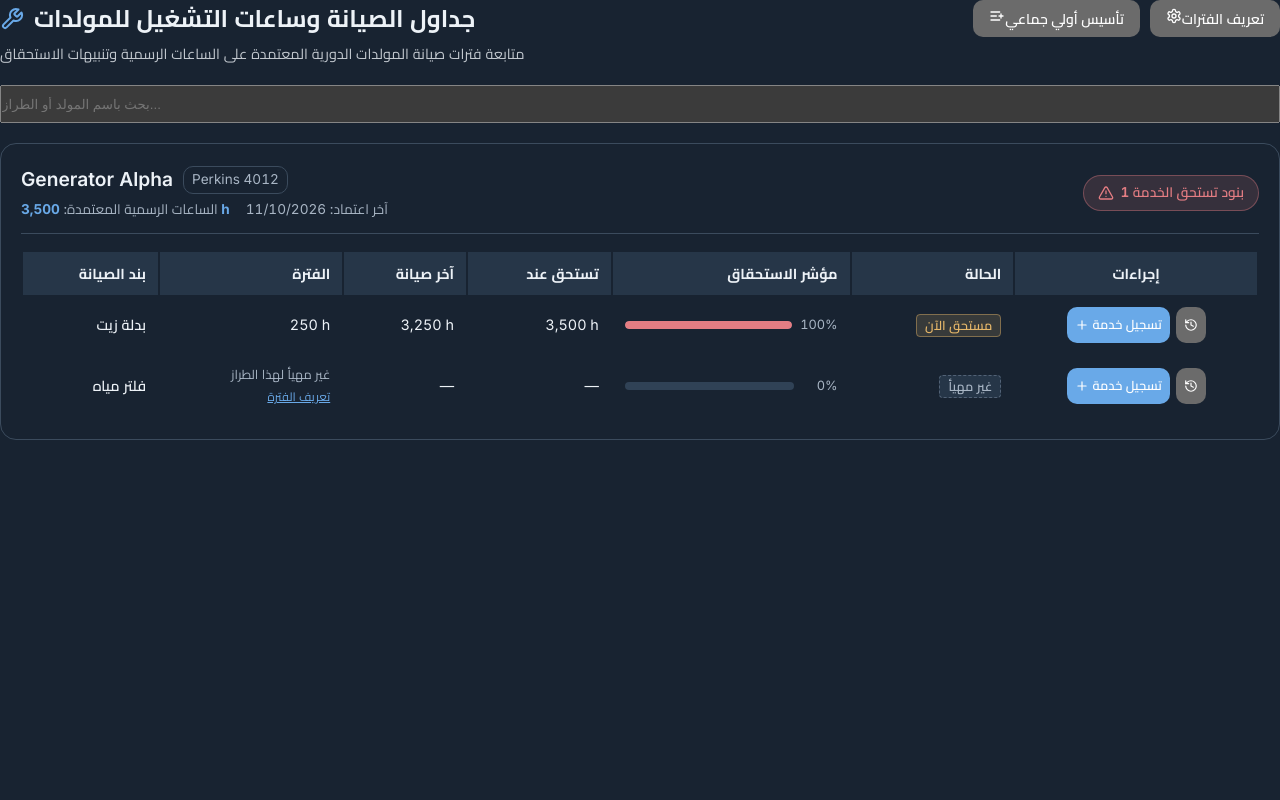
Test: GeneratorMaintenanceTable › opens void confirmation dialog from service history list
This screenshot has width=1280, height=800.
Expected: the heading "Generator Alpha" is shown, [21,164,173,195]
// Open history modal
Click the button titled "سجل الصيانات" in the row of "بدلة زيت".
click(1191, 325)  # box [1176,307,1206,343]
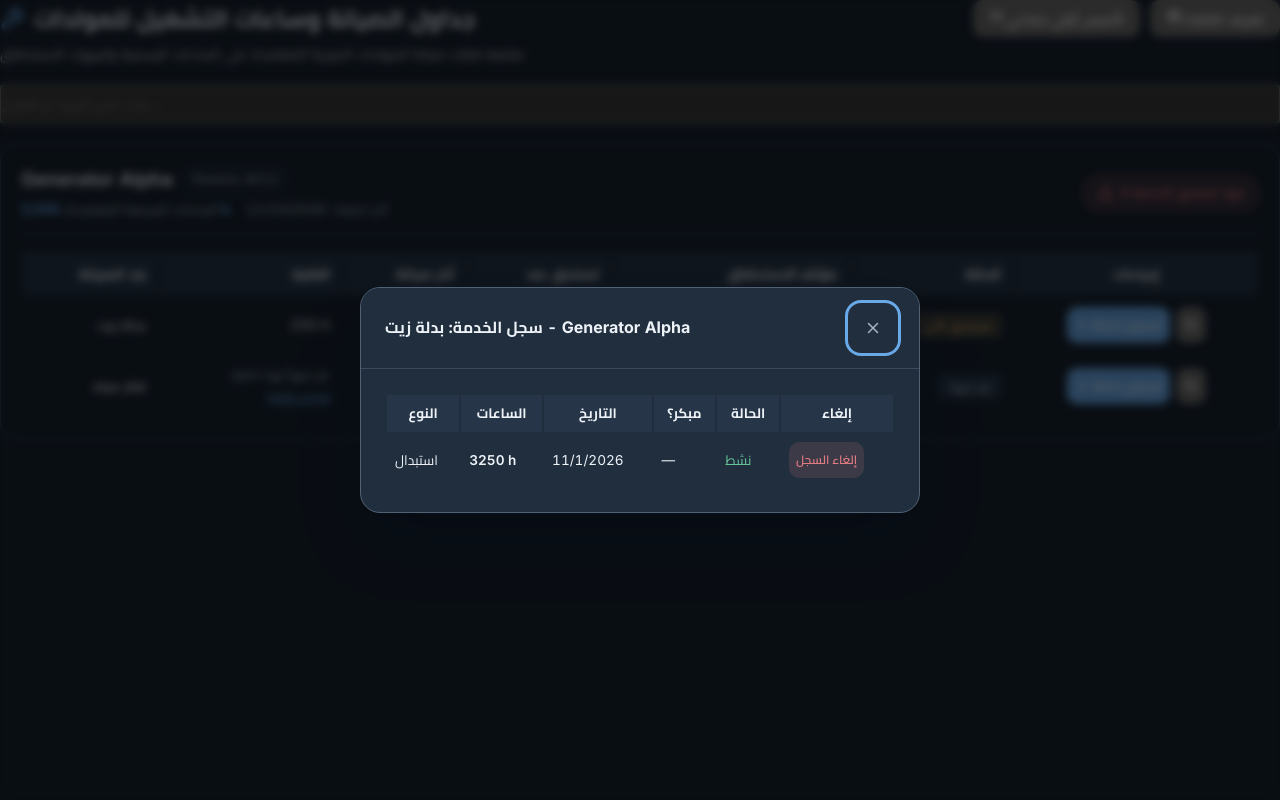
Now the text "3250 h" is shown, box [461,434,542,486]
// Click void button inside history table
Click the button "إلغاء السجل".
click(827, 460)  # box [789,442,864,478]
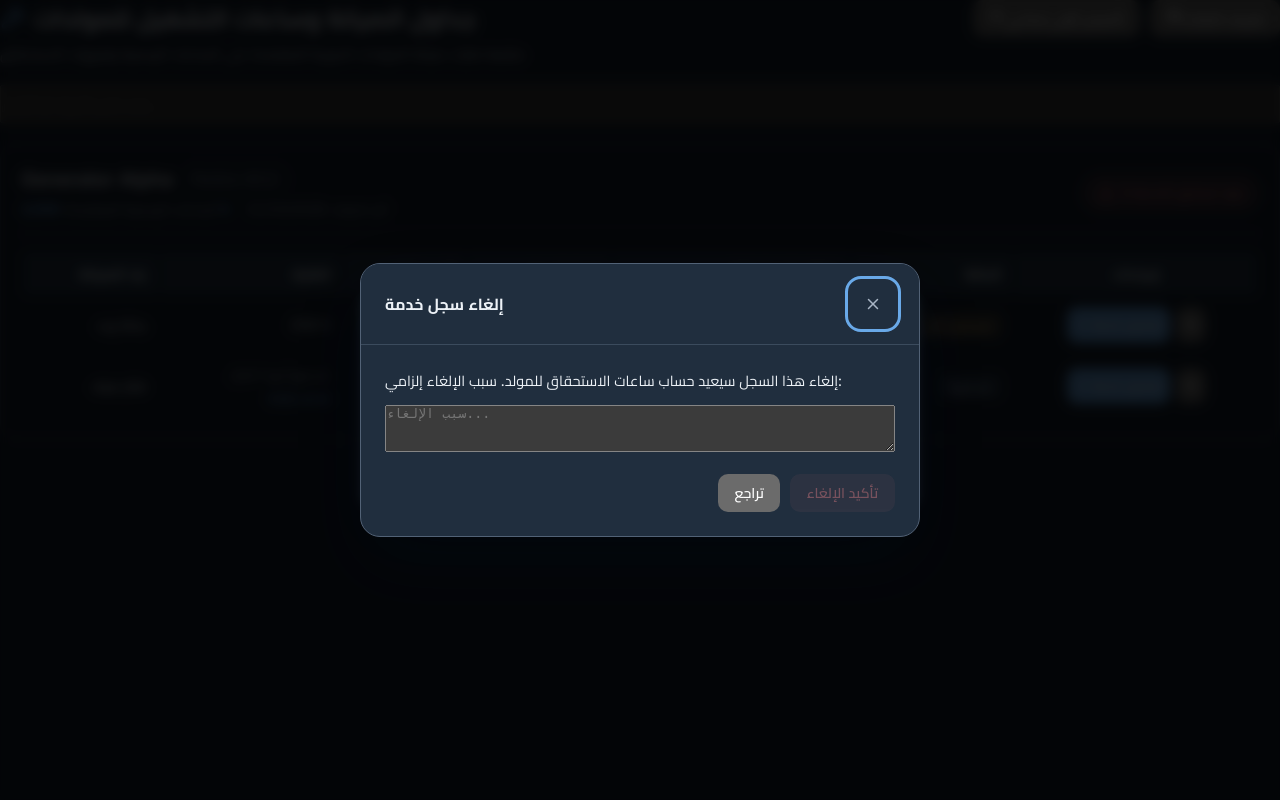
Now the text "إلغاء سجل خدمة" is shown, box [385,292,504,317]
Now the text "إلغاء هذا السجل سيعيد حساب ساعات الاستحقاق للمولد" is shown, box [385,372,842,390]
